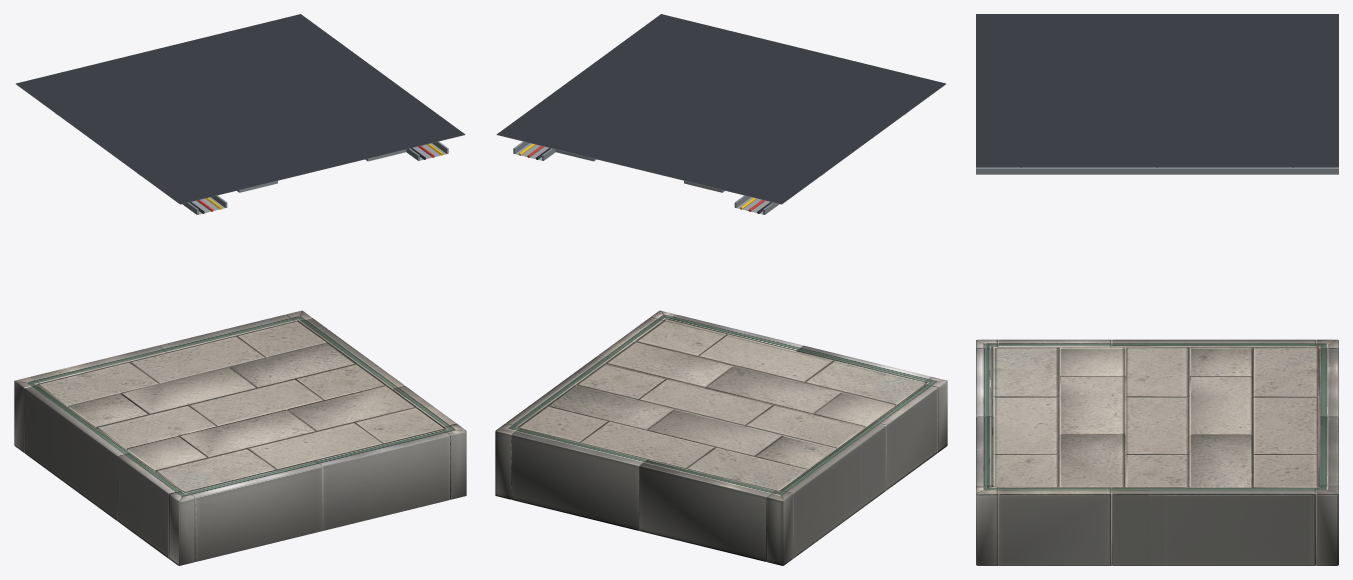
Rendered from floor_c.fbx.
The picture shows the model from 3 angles, left to right: view 1: azimuth 30°, elevation 25°; view 2: azimuth 150°, elevation 25°; view 3: azimuth 270°, elevation 25°; orthographic projection. The views are drawn at different scales.
Visible parts, largest first — view 1: floor_c, Ceiling; view 2: floor_c, Ceiling; view 3: floor_c, Ceiling.
Boxes of the visible parts, bbox=[...] form: floor_c: bbox=[14, 310, 466, 565]; Ceiling: bbox=[16, 14, 465, 214]; floor_c: bbox=[495, 310, 947, 565]; Ceiling: bbox=[496, 14, 945, 214]; floor_c: bbox=[976, 339, 1338, 565]; Ceiling: bbox=[976, 14, 1338, 174].
Bounding box in the file's own units: 4.03 × 4.84 × 4.
